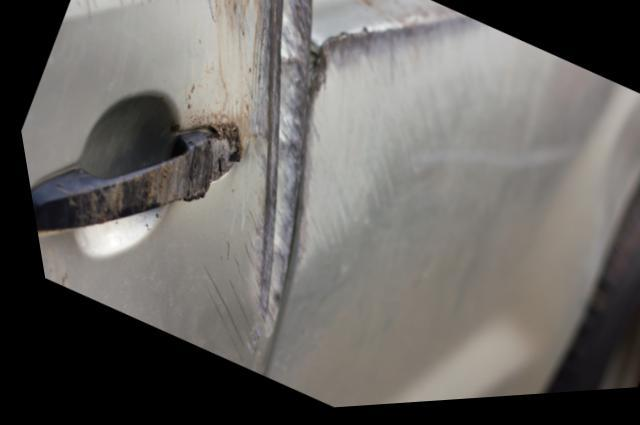scratch: (53, 0, 312, 354)
